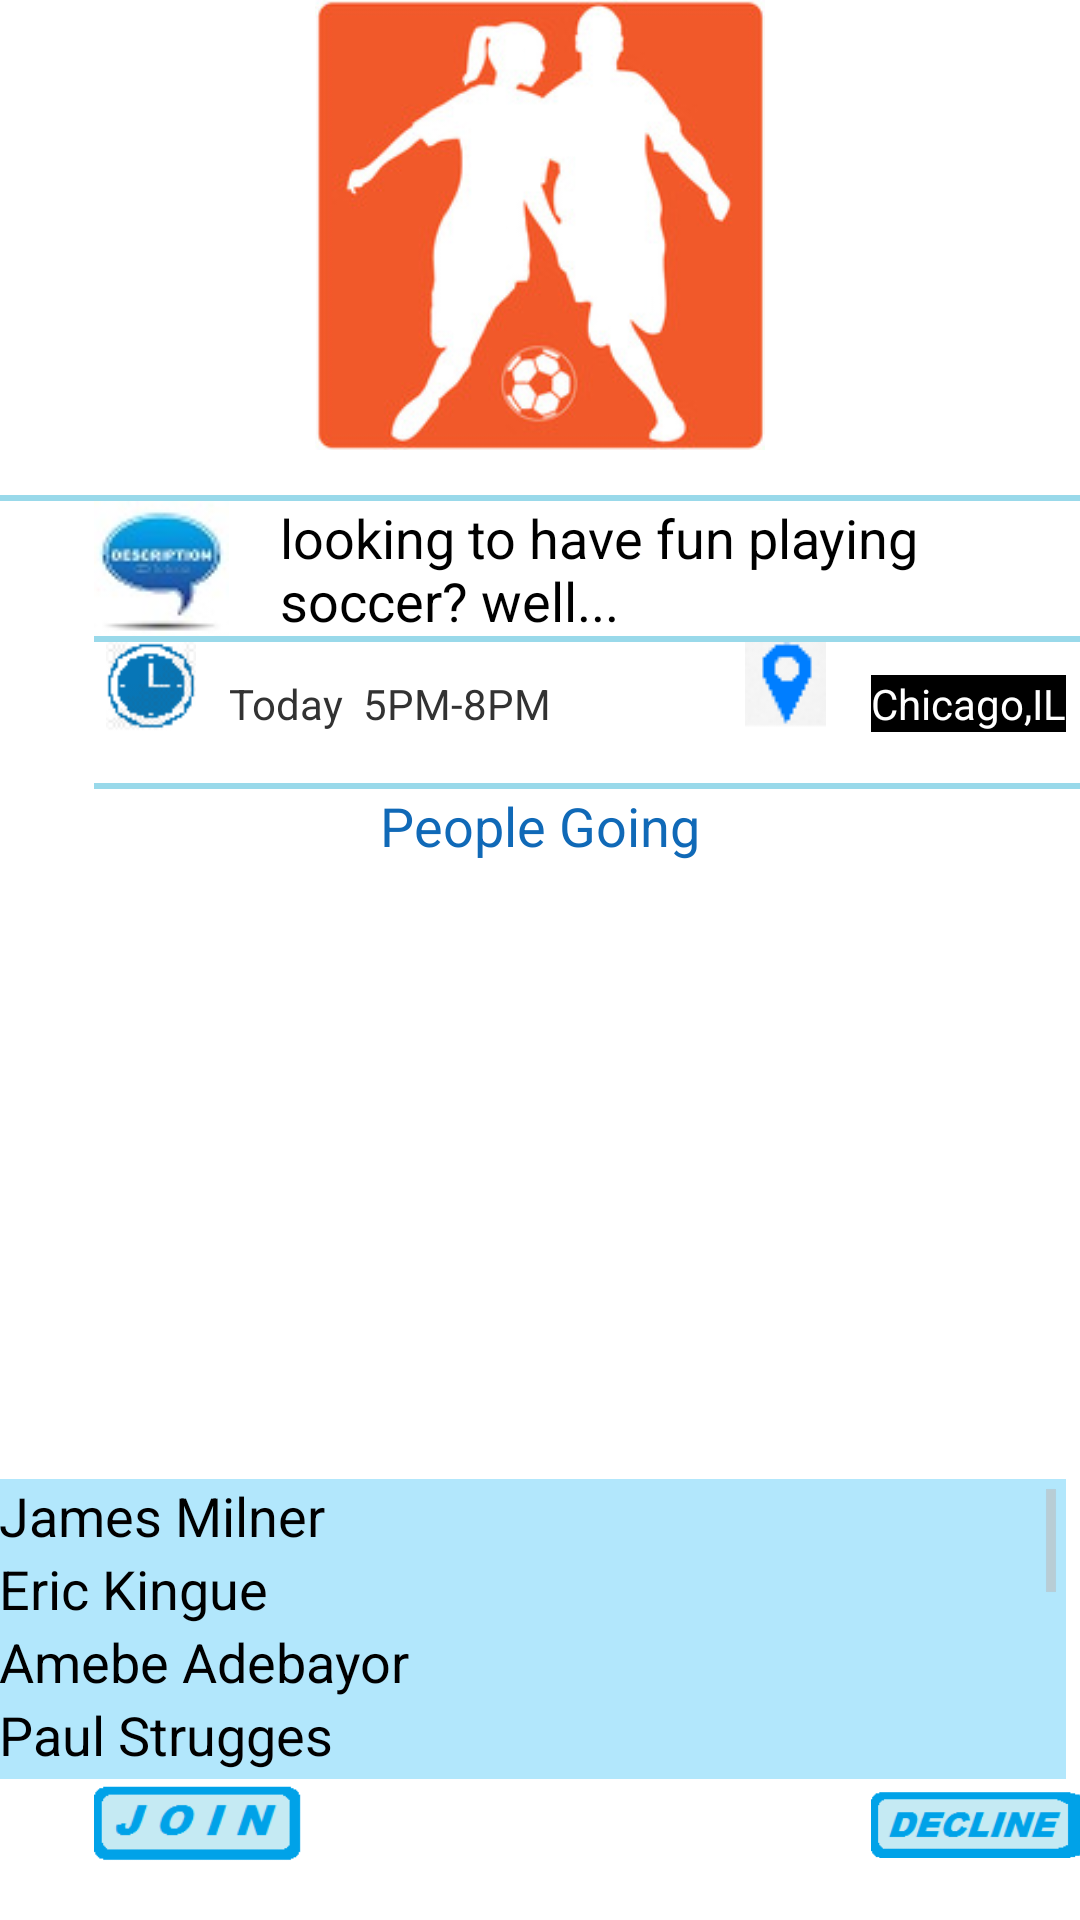

Named icons in this screenshot (1080px×1920px) and their centers, (x,y):
clock: (151,685)
location: (787,683)
